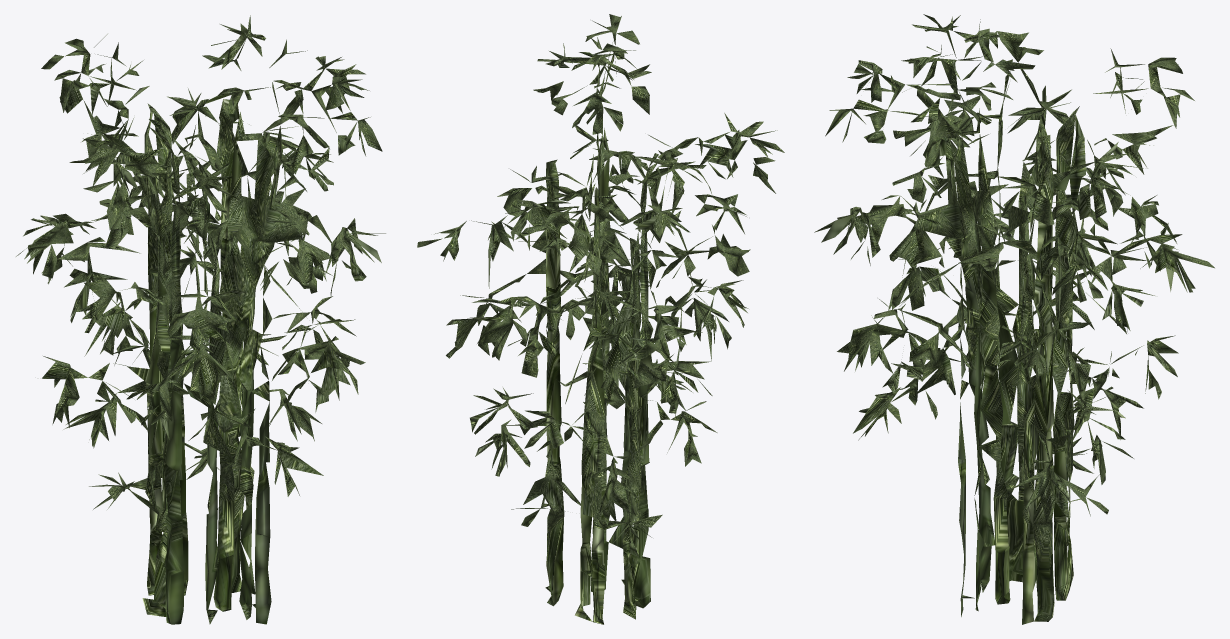
File: bamboo-low.glb
3 renders of one model, left to right at view 1: azimuth 30°, elevation 25°; view 2: azimuth 150°, elevation 25°; view 3: azimuth 270°, elevation 25°, orthographic. The views are drawn at different scales.
Bounding box in the file's own units: 0.5631 × 0.9961 × 0.6202.
1 material, 1 textured.
